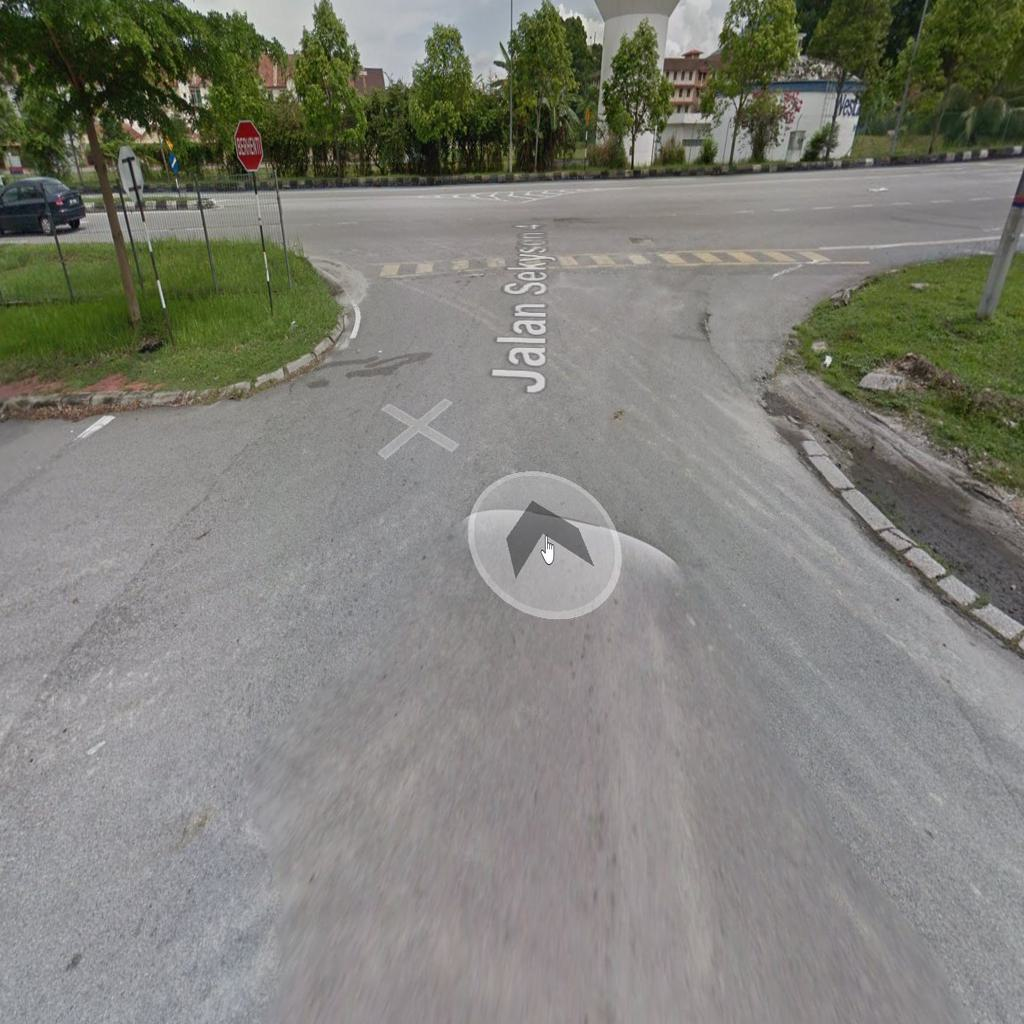Junction: (712, 133, 1018, 438), (115, 147, 416, 336)
